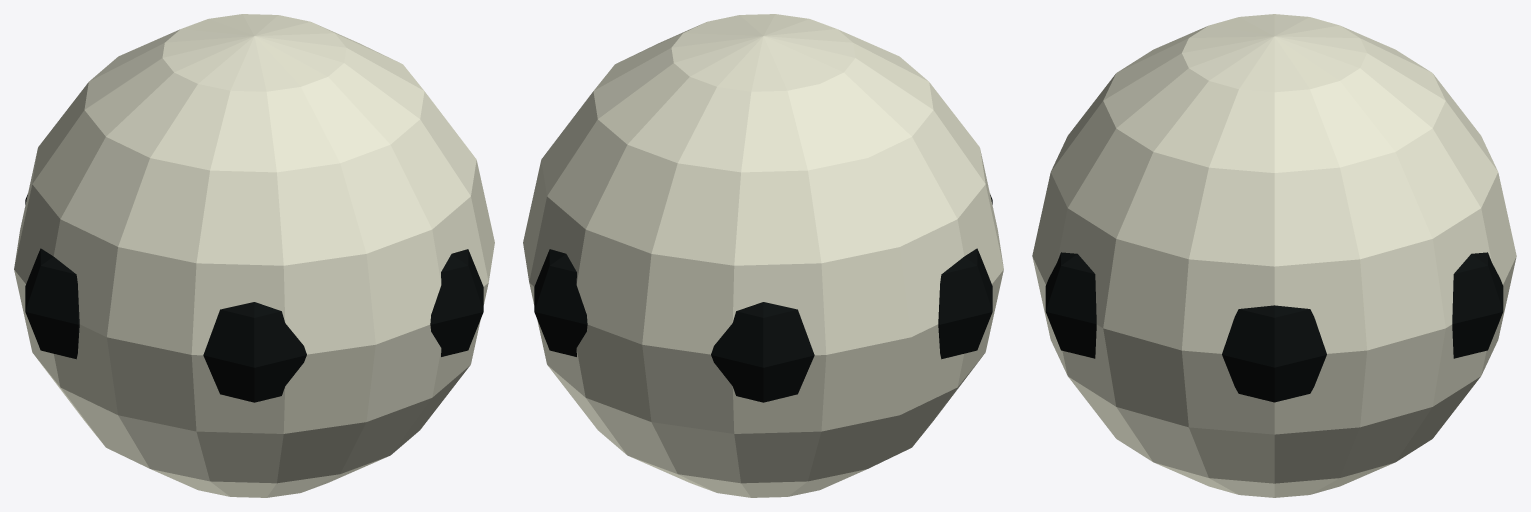
Rendered from football.glb.
The picture shows the model from 3 angles, left to right: view 1: azimuth 30°, elevation 25°; view 2: azimuth 150°, elevation 25°; view 3: azimuth 270°, elevation 25°; orthographic projection.
Visible parts, largest first — view 1: V2_football_white.005, V2_football_dark.005; view 2: V2_football_white.005, V2_football_dark.005; view 3: V2_football_white.005, V2_football_dark.005.
Part boxes in pixels (x1,y1,x2,y2): V2_football_white.005: (14, 14, 494, 497); V2_football_dark.005: (25, 194, 483, 402); V2_football_white.005: (523, 14, 1003, 497); V2_football_dark.005: (534, 194, 992, 402); V2_football_white.005: (1032, 14, 1516, 497); V2_football_dark.005: (1045, 252, 1503, 402).
Bounding box in the file's own units: 0.48 × 0.44 × 0.44.
